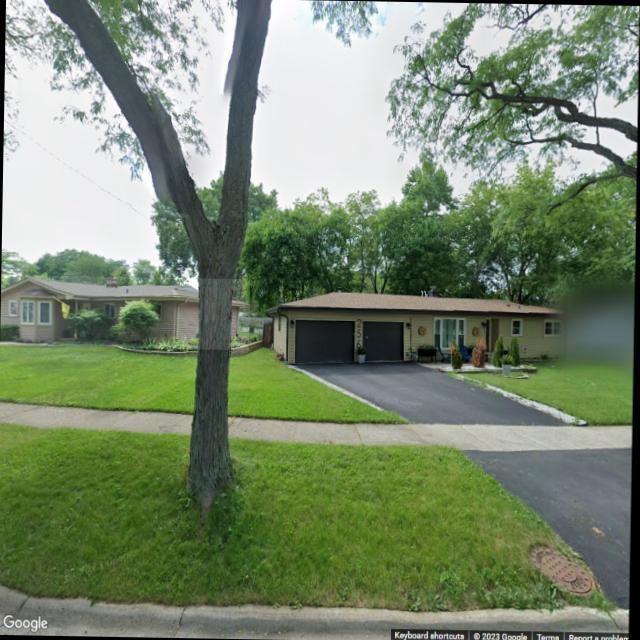House: (262, 290, 568, 372), (0, 274, 249, 350)
